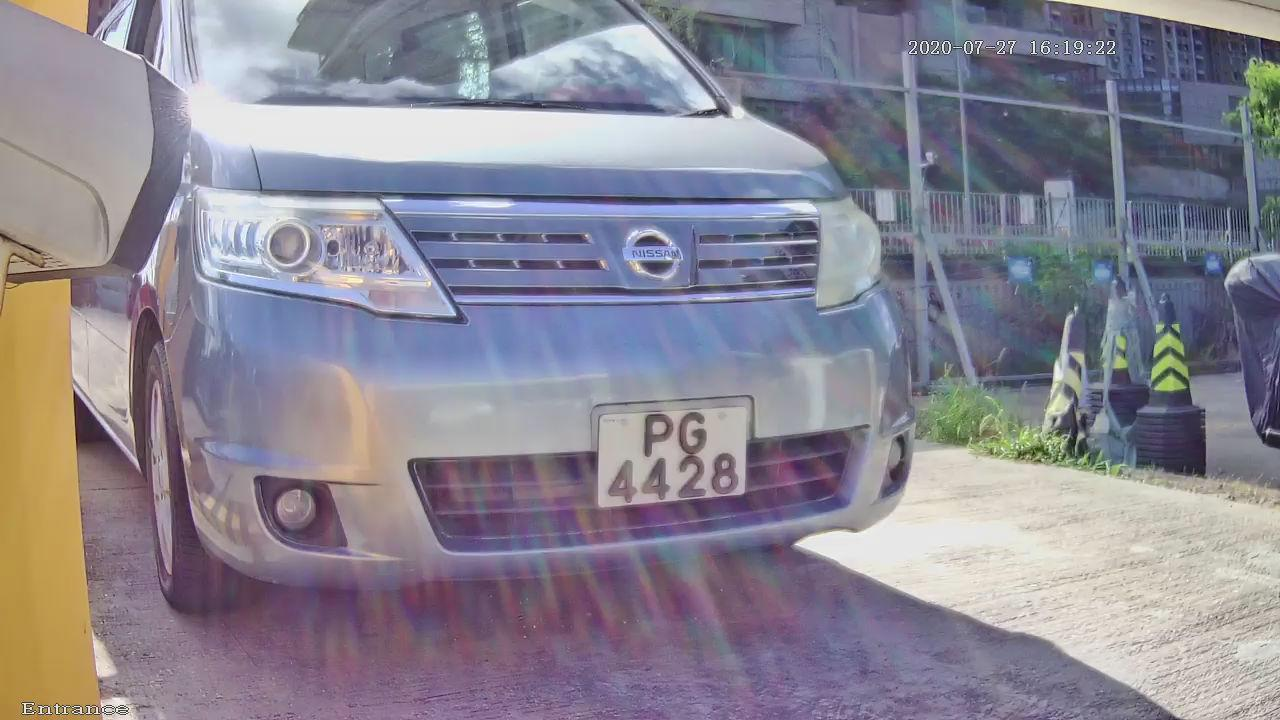privatecar: (86, 49, 955, 614)
